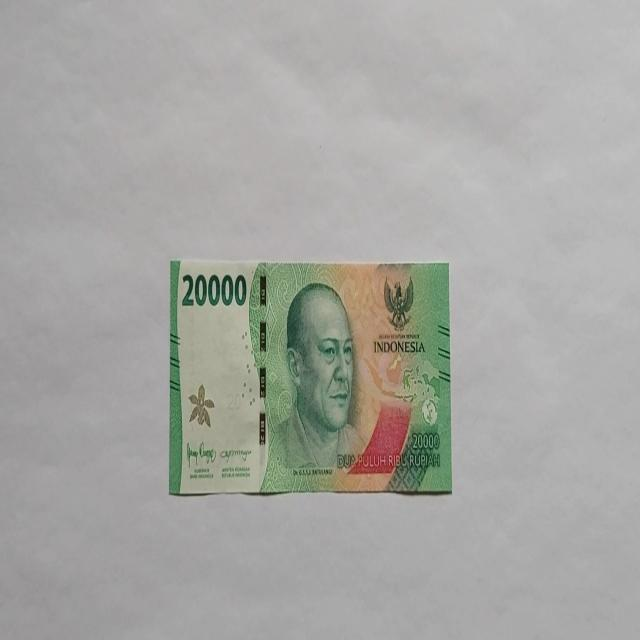dua puluh ribu rupiah: (168, 257, 452, 497)
